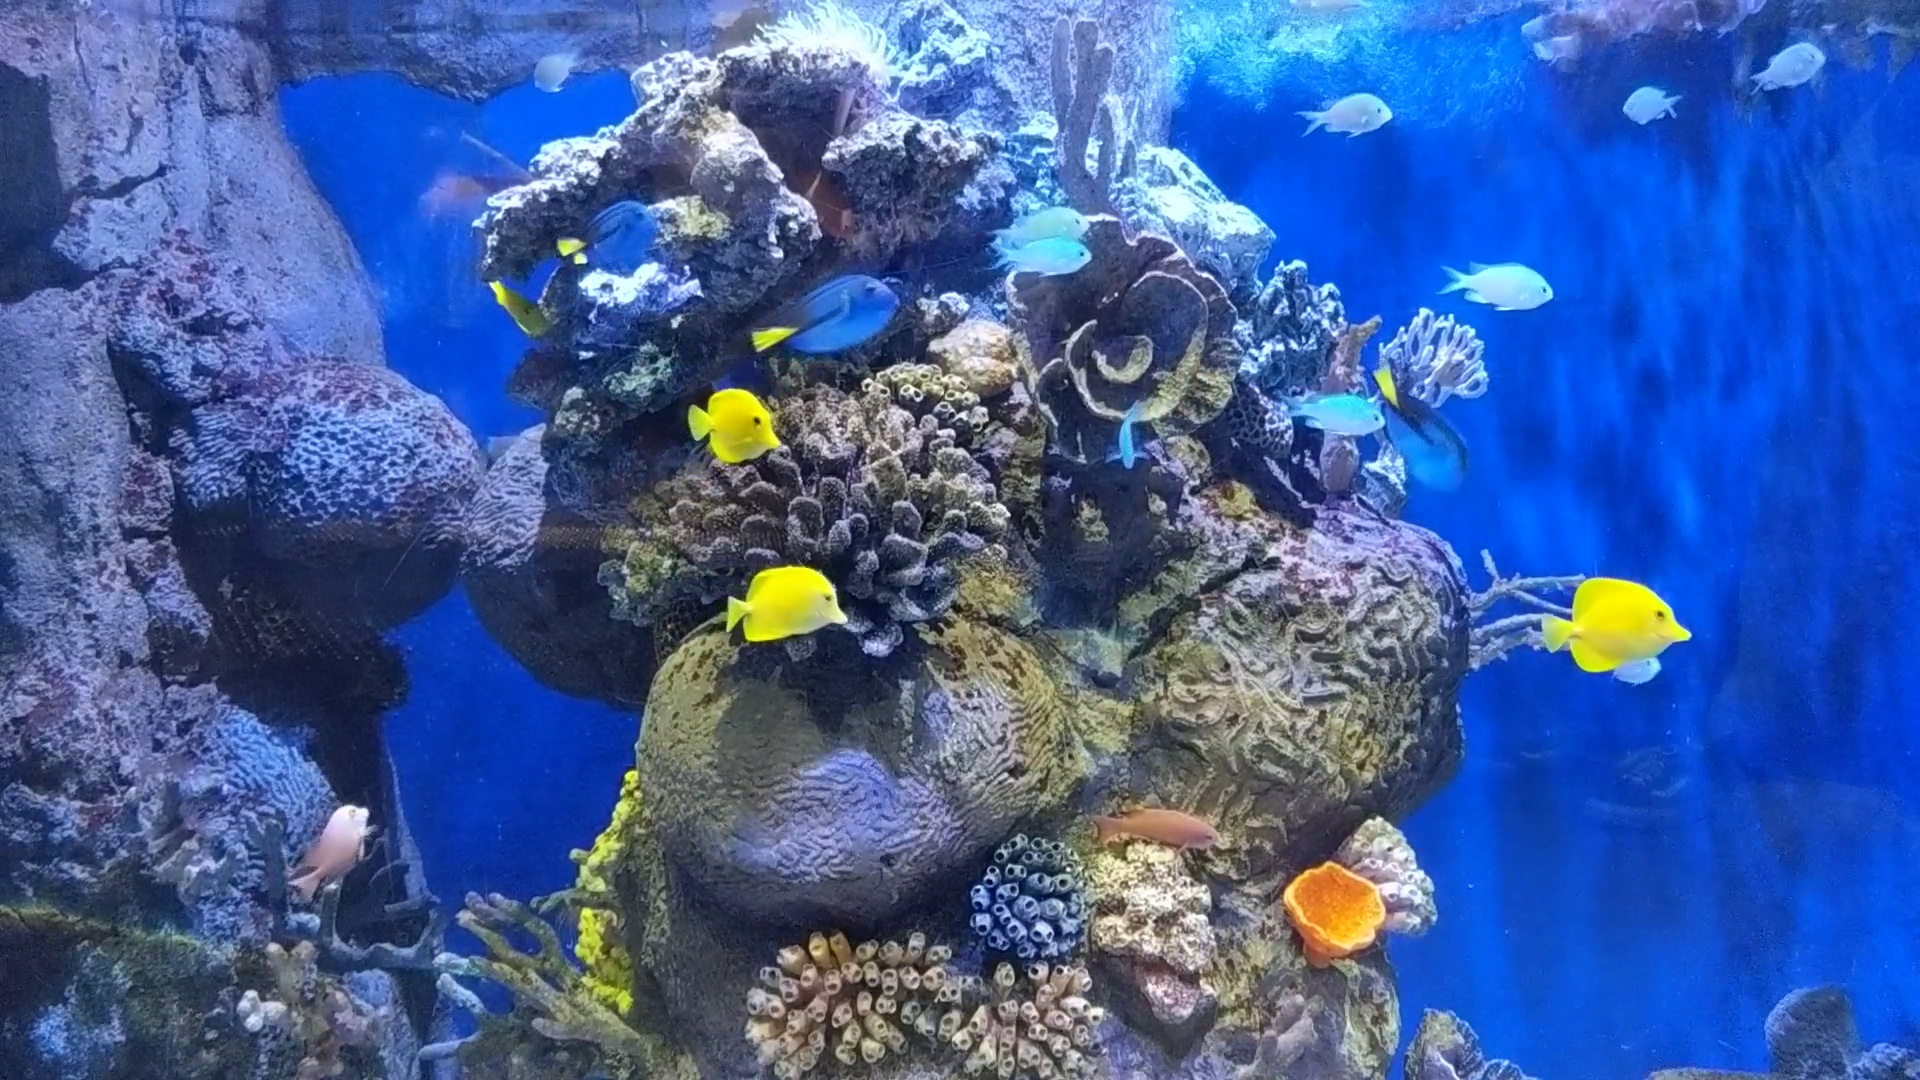blue tang surgeonfish: (737, 269, 902, 367), (1374, 356, 1480, 498), (549, 189, 669, 295)
damselfish: (1429, 249, 1559, 314), (1270, 378, 1389, 446), (1746, 28, 1826, 100), (984, 236, 1105, 277), (1295, 90, 1394, 140), (992, 199, 1096, 244), (1619, 76, 1688, 129), (1116, 392, 1153, 475), (525, 44, 585, 92), (1613, 642, 1665, 691)
saddle butterfly fish: (1535, 572, 1698, 675), (720, 563, 853, 641), (684, 392, 783, 462), (483, 270, 547, 340)
